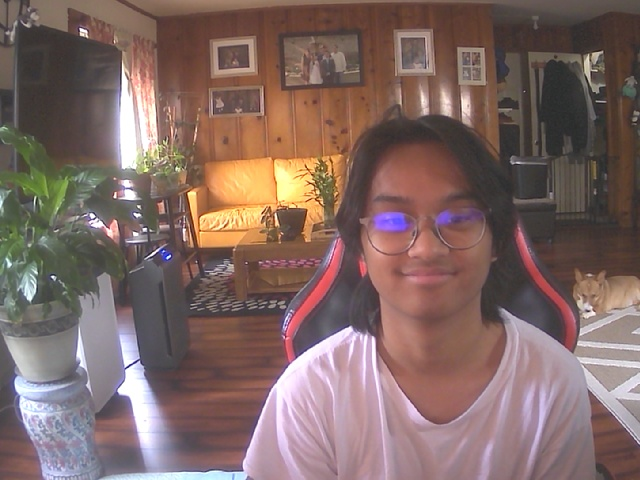happy: (349, 119, 507, 321)
